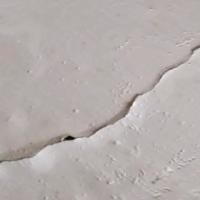crack: (2, 46, 199, 179)
